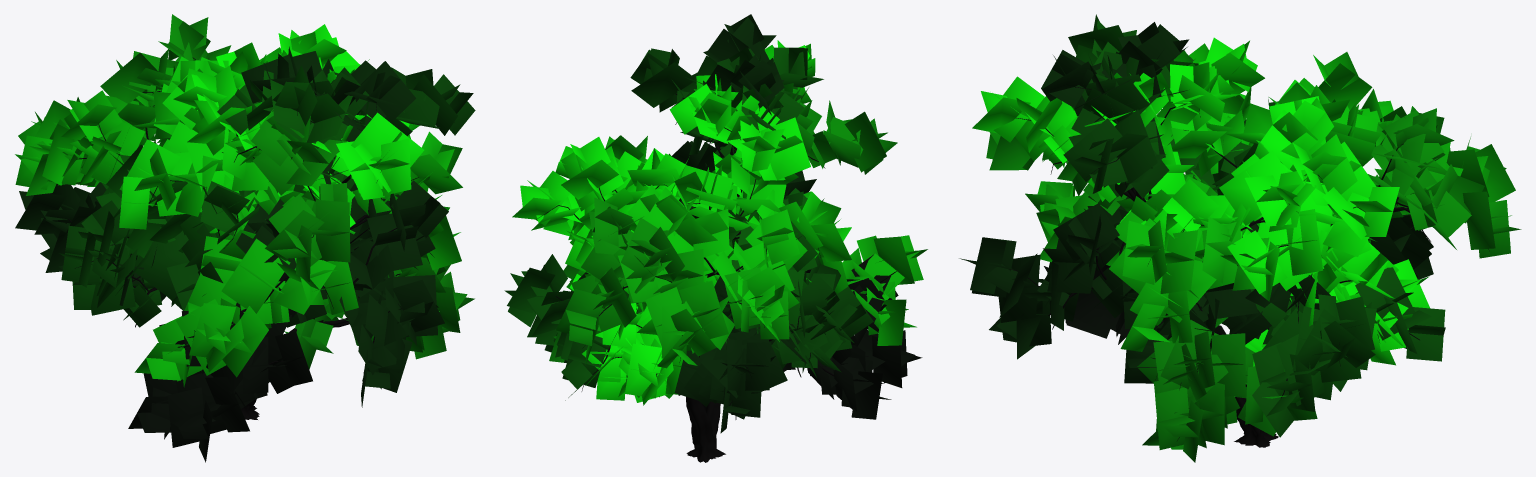
File: Euro_Beech_3.fbx
The picture shows the model from 3 angles, left to right: view 1: azimuth 30°, elevation 25°; view 2: azimuth 150°, elevation 25°; view 3: azimuth 270°, elevation 25°; orthographic projection. The views are drawn at different scales.
Visible parts, largest first — view 1: Euro_Beech_3; view 2: Euro_Beech_3; view 3: Euro_Beech_3.
Boxes of the visible parts, x1=… form: Euro_Beech_3: x1=15, y1=14, x2=475, y2=462; Euro_Beech_3: x1=504, y1=14, x2=927, y2=462; Euro_Beech_3: x1=959, y1=14, x2=1521, y2=462.
Bounding box in the file's own units: 712 × 728 × 907.
